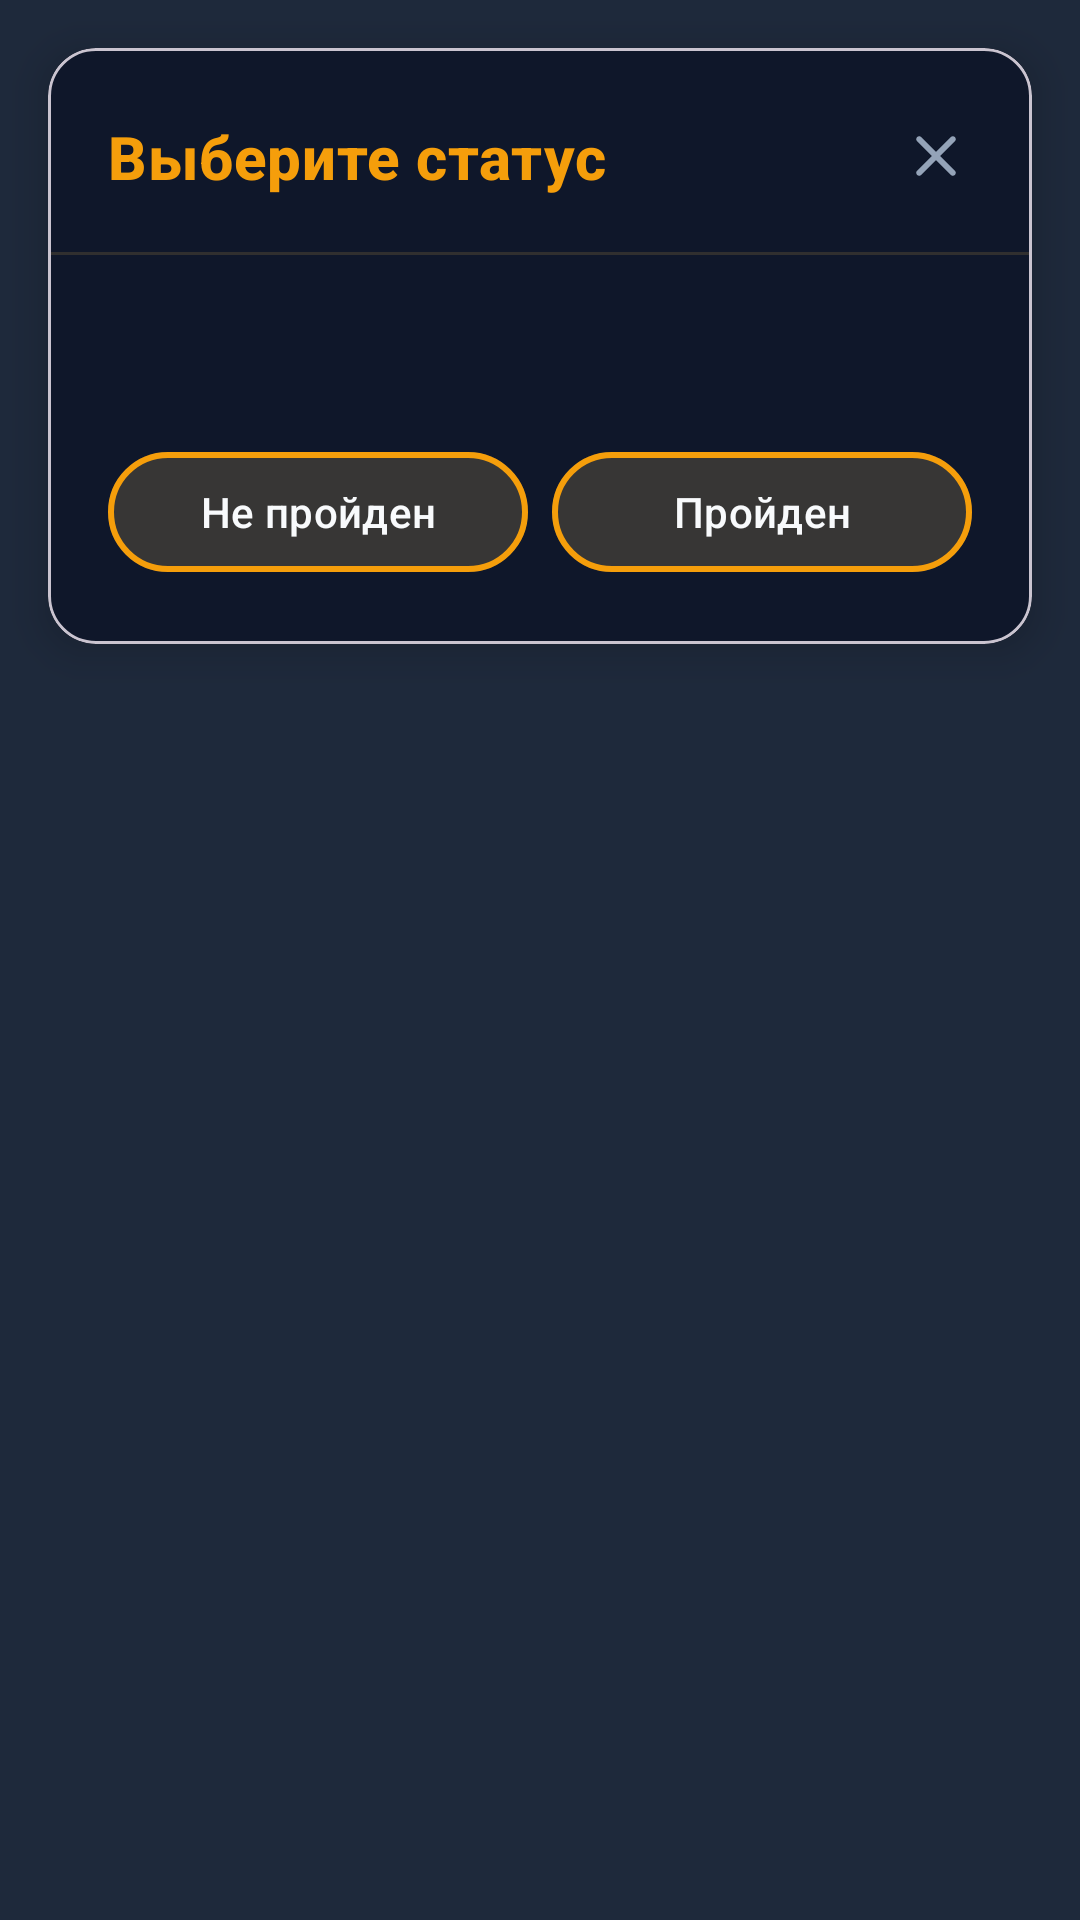

Named icons in this screenshot (1080 x 1920) and their bounding boxes, (x1, y1, x2, y2):
Закрыть: (916, 136, 956, 176)
